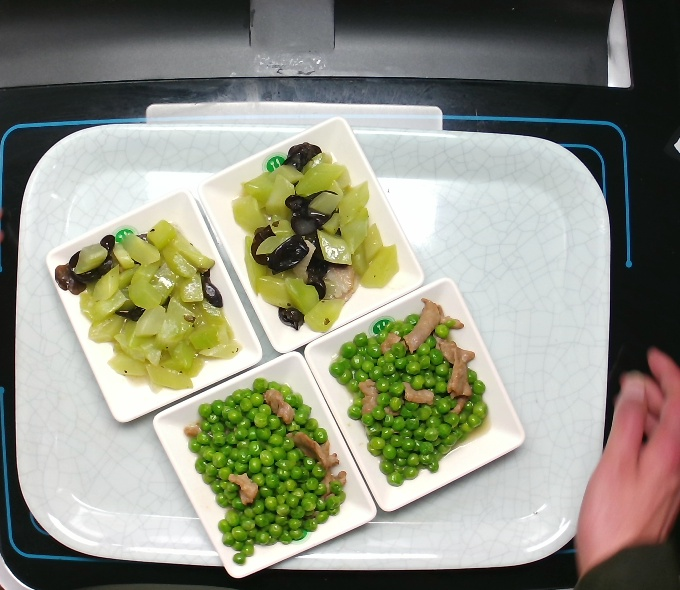wcq-CanDouRouSi: (331, 288, 511, 494), (179, 371, 356, 578)
wcq-WoSunKuai: (224, 129, 416, 338), (57, 219, 248, 407)
